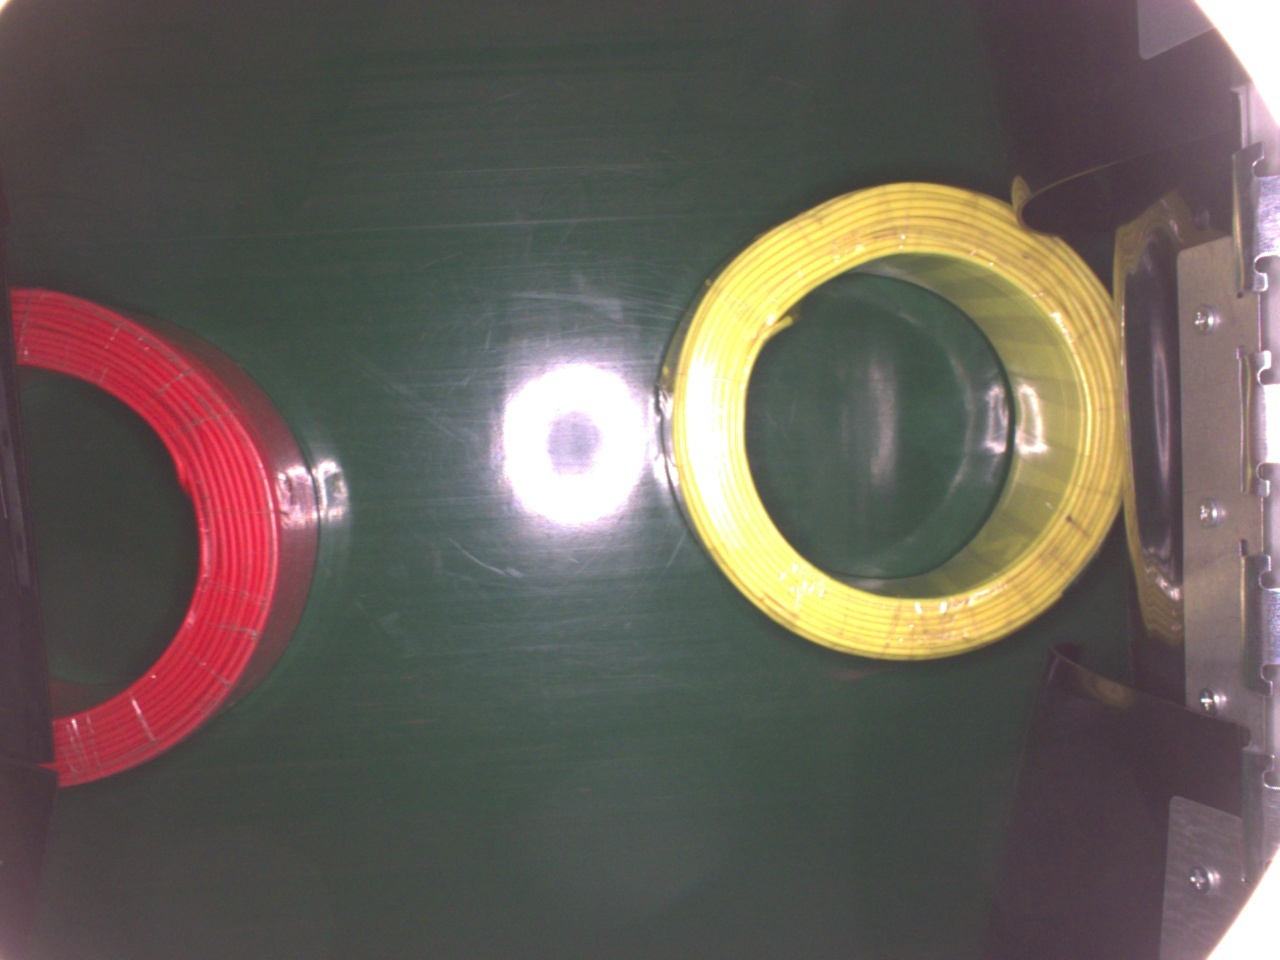red: (7, 282, 322, 790)
yellow: (653, 181, 1129, 669)
